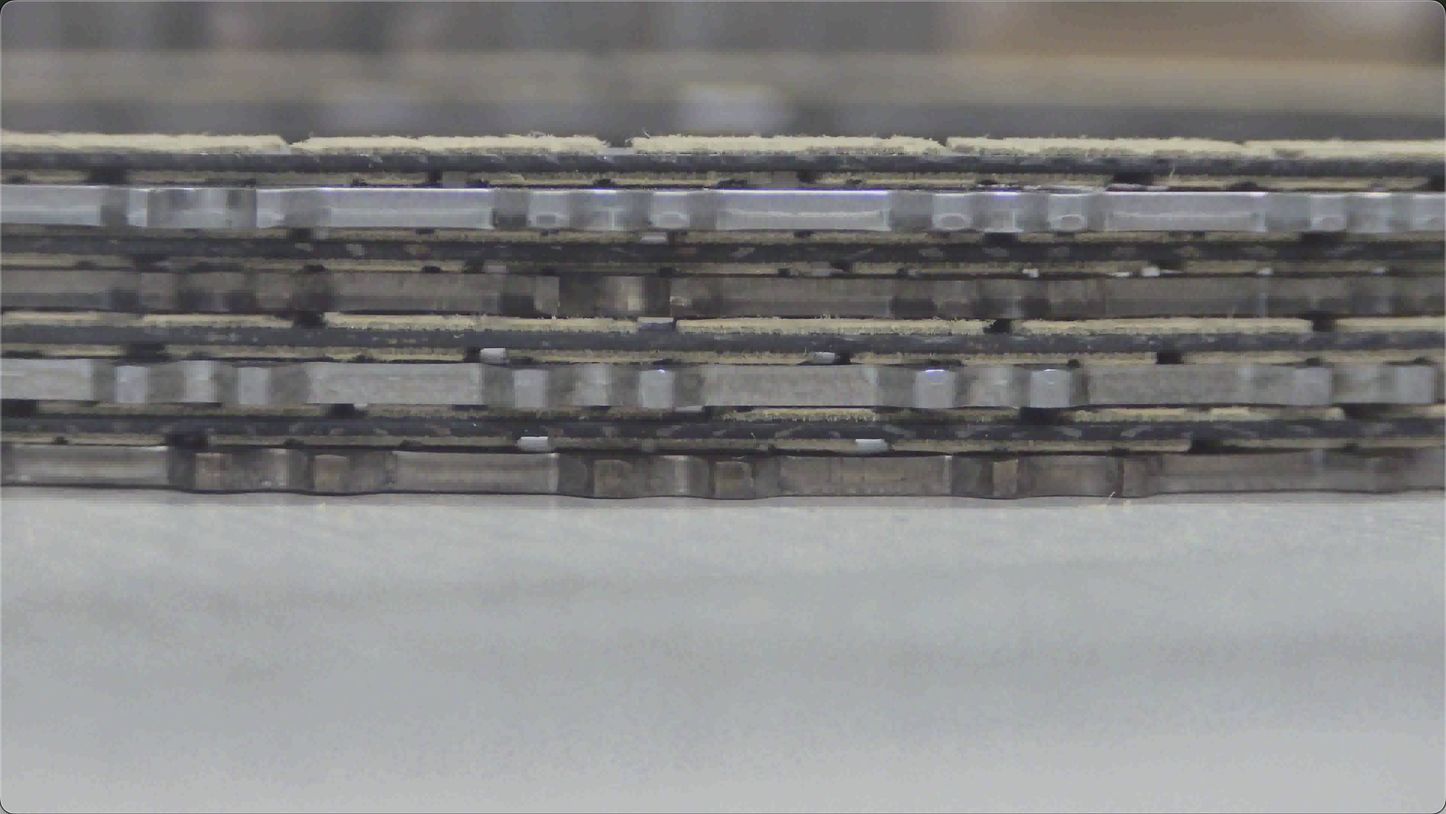Black metal plate: (0, 178, 1425, 408), (0, 315, 1445, 371)
shiney metal plate: (0, 358, 1445, 411), (0, 185, 1445, 236)
spacer: (72, 210, 1426, 739), (0, 110, 1405, 382), (0, 52, 1411, 273), (0, 412, 1445, 449)
